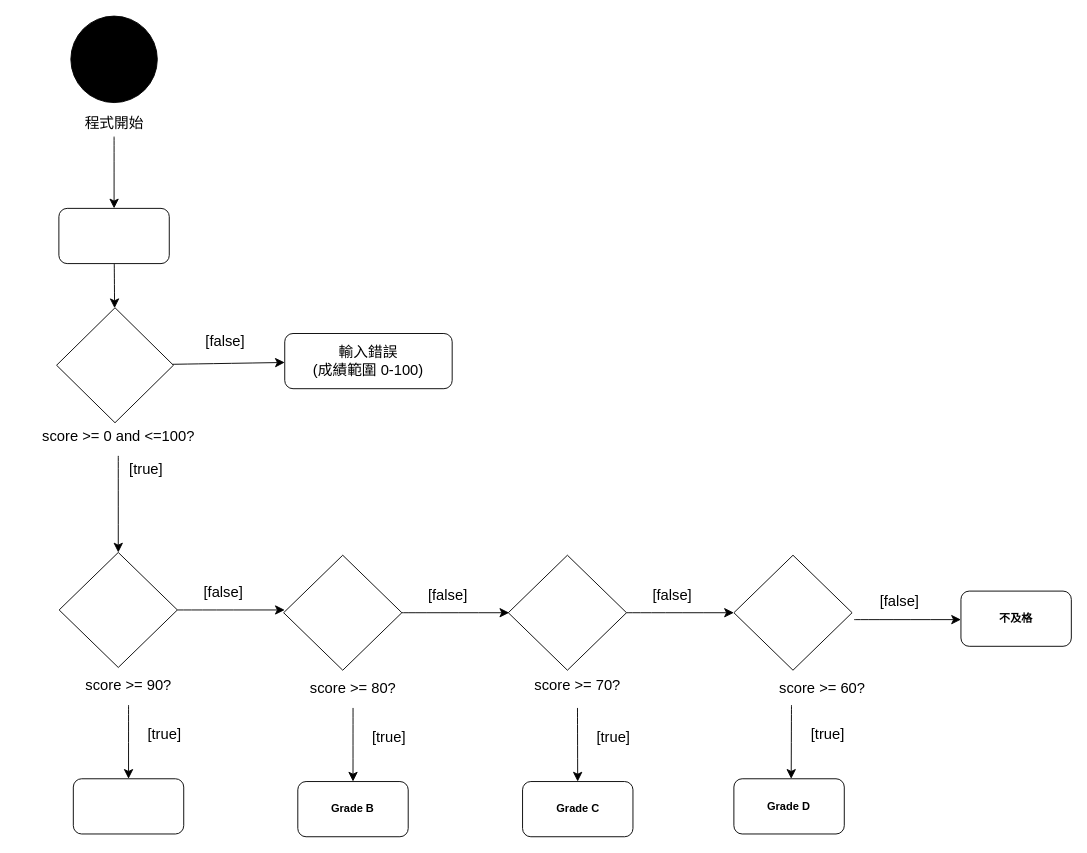
The diagram is 1087 pixels wide and 853 high, and some of its shapes have lost their labels. The box of each missing label's shape, as (x1, y1, x2, y2) in pixels:
Grade A: (72, 778, 184, 834)
輸入學生成績: (58, 207, 169, 264)
